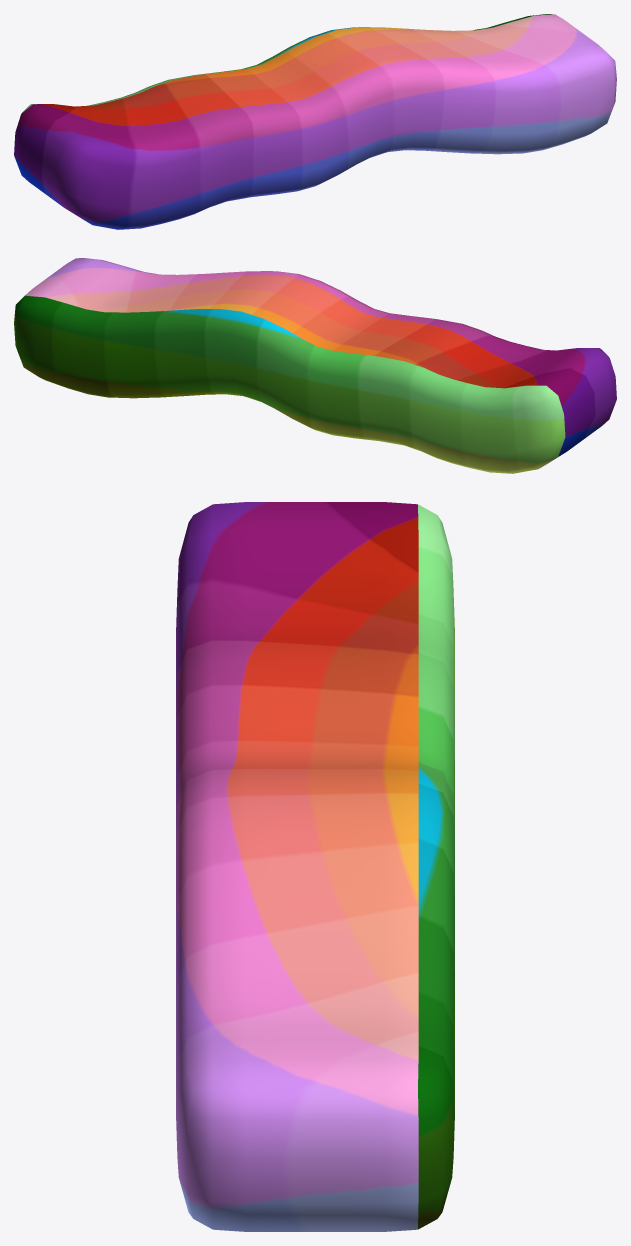
Rendered from Western_Platform_DeformMesh1.fbx.
3 renders of one model, top to bottom at view 1: azimuth 30°, elevation 25°; view 2: azimuth 150°, elevation 25°; view 3: azimuth 270°, elevation 25°, orthographic. The views are drawn at different scales.
Visible parts, largest first — view 1: Cube.003; view 2: Cube.003; view 3: Cube.003.
Part boxes in pixels (x1=…): Cube.003: x1=14, y1=14, x2=616, y2=229; Cube.003: x1=14, y1=258, x2=616, y2=473; Cube.003: x1=176, y1=502, x2=454, y2=1231.
Size of the model in its own units: 3491 by 736 by 762.
1 material, 1 textured.
